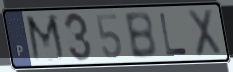3: (62, 11, 94, 64)
5: (94, 12, 124, 61)
B: (122, 10, 159, 61)
L: (158, 12, 189, 57)
M: (24, 13, 69, 65)
X: (185, 7, 224, 59)
